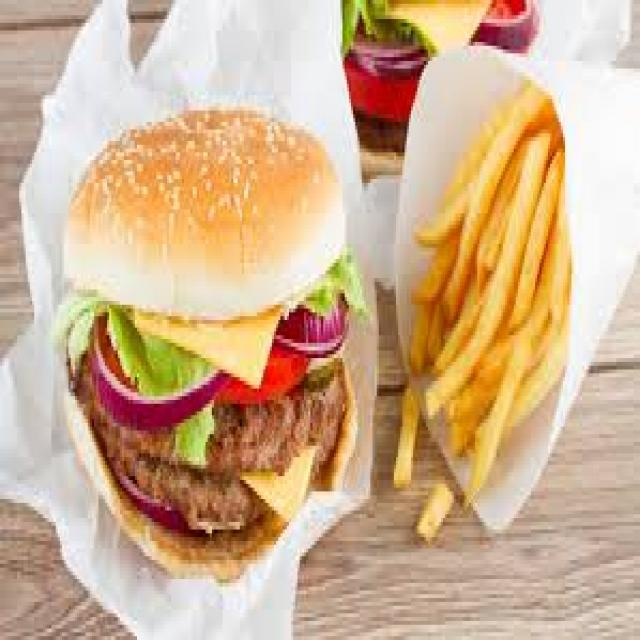burger: (54, 96, 359, 582)
frenchfries: (392, 88, 569, 548)
